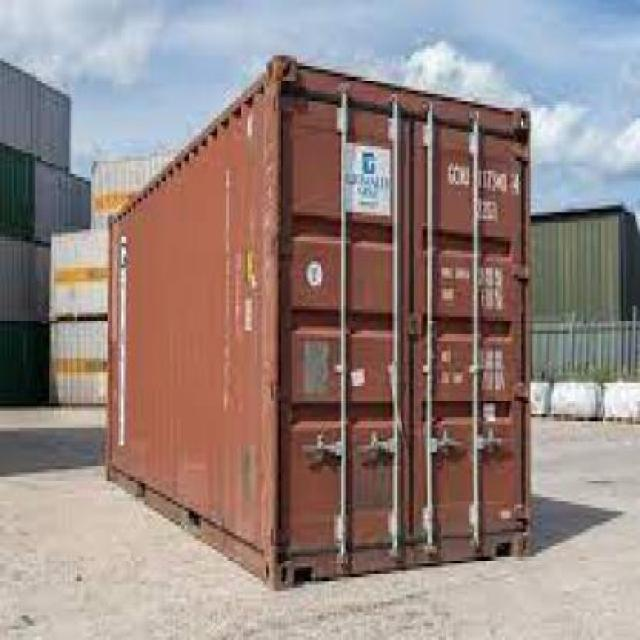ISO: (470, 196, 502, 220)
container_number: (445, 156, 526, 196)
